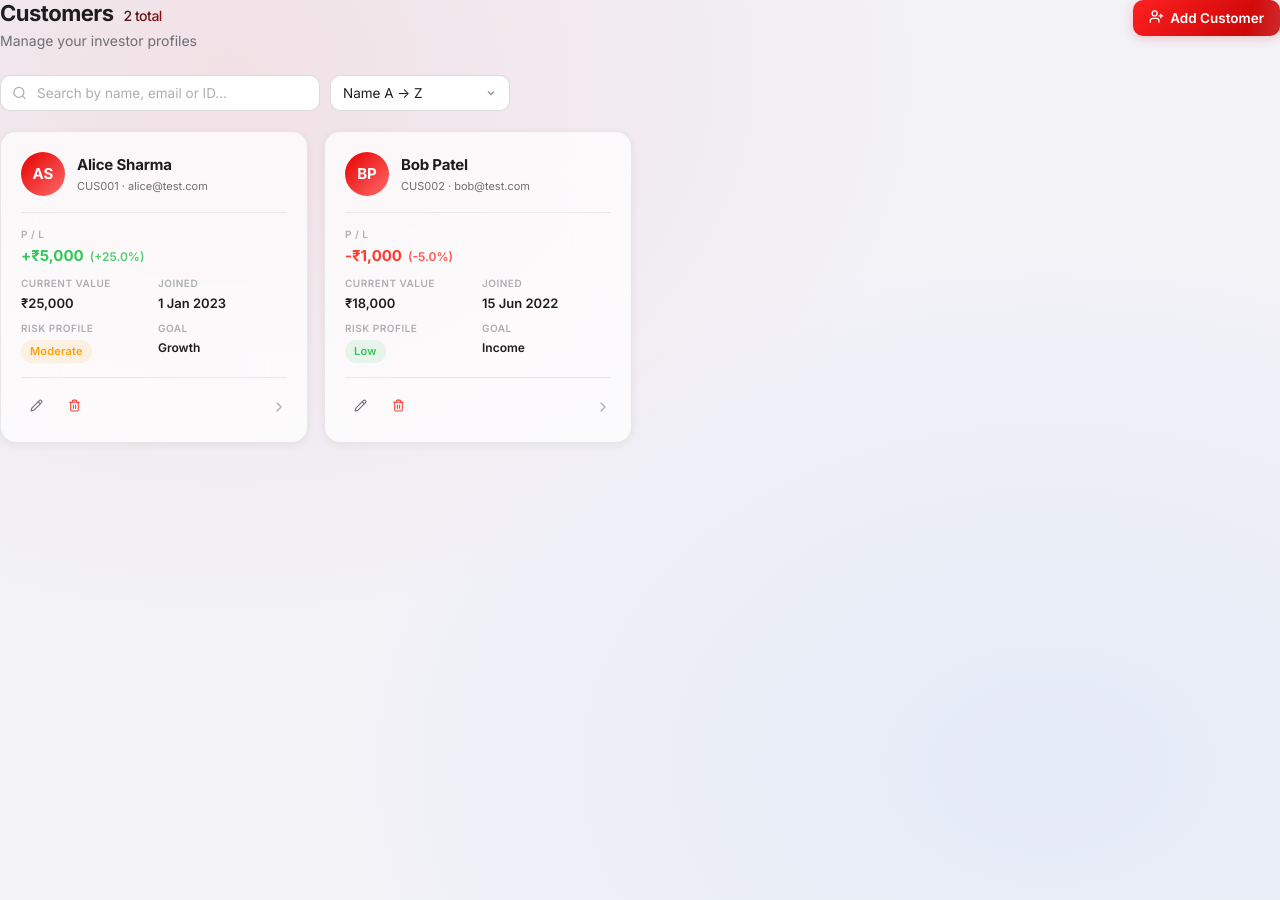
Test: CustomersPage — delete › opens delete confirm dialog on trash click
The width and height of the screenshot is (1280, 900).
Click the button named "delete alice sharma": (74, 407) [59, 392, 89, 422]
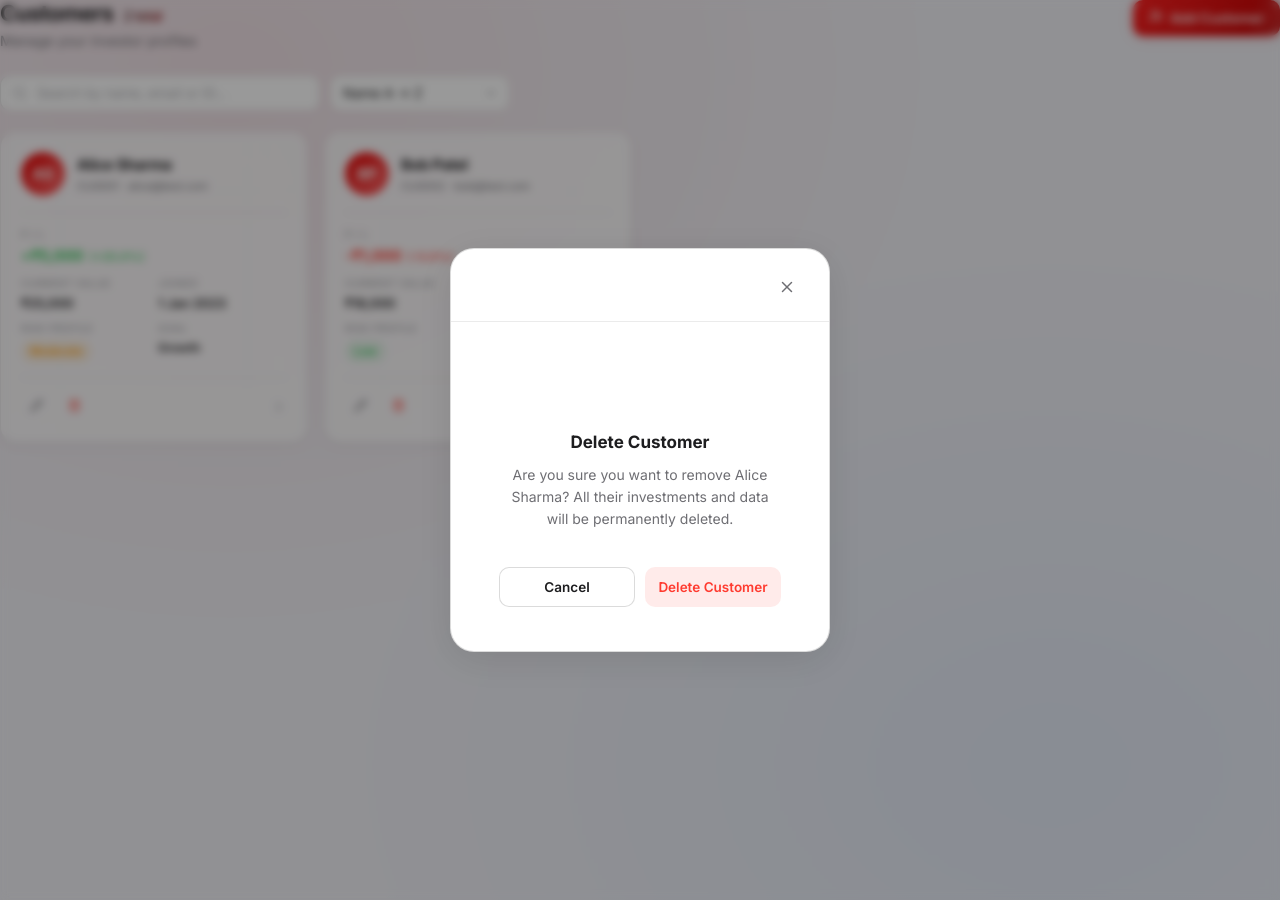
Now the text "Delete Customer" is shown, box [570, 432, 710, 452]
